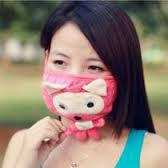OK: (45, 47, 123, 129)
